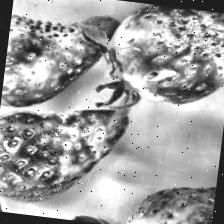Powdery Mildew Fruit: (0, 94, 130, 215), (99, 0, 224, 111), (0, 4, 119, 119)
